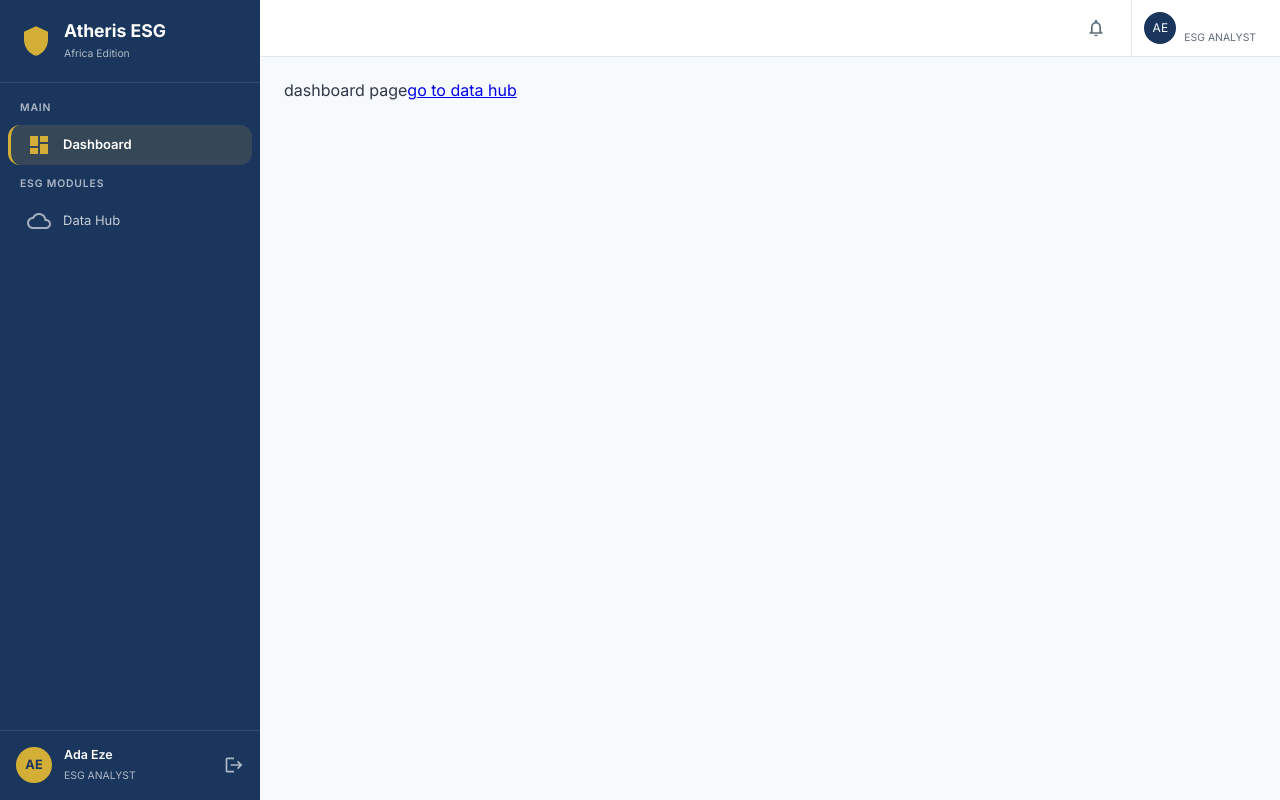
MainLayout (Phase 2: responsive shell) › the notifications popover closes on Escape
Click the button named "Notifications".
click(1096, 28)  # box [1081,13,1111,43]
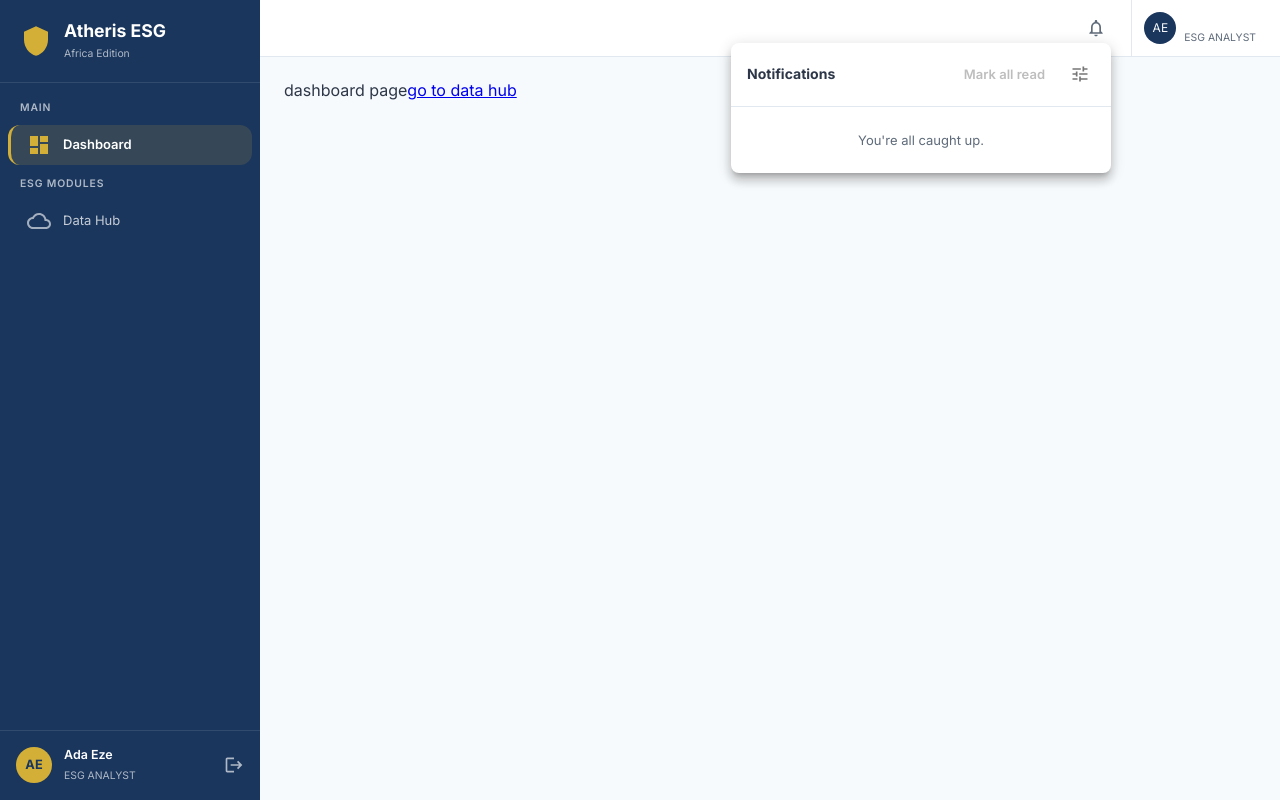
Now the text "You're all caught up." is shown, box [858,132,984,148]
Press Escape
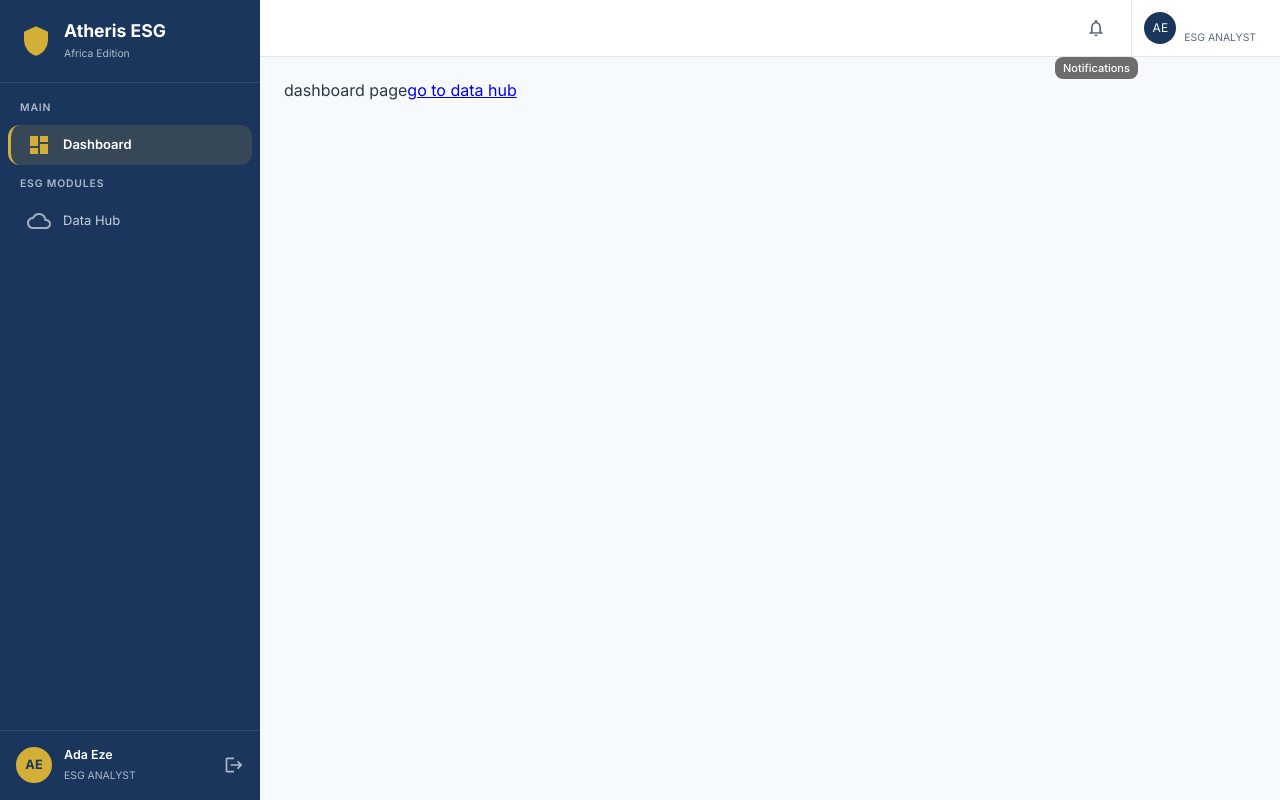
Now the text "You're all caught up." is gone
